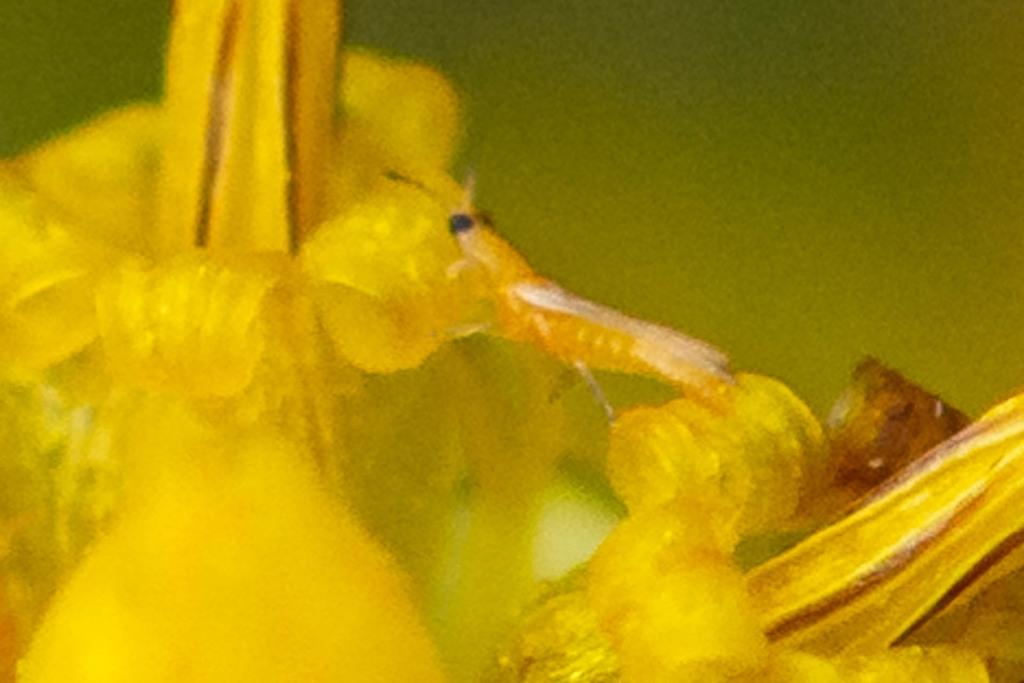tiny_pests: (378, 139, 800, 493)
